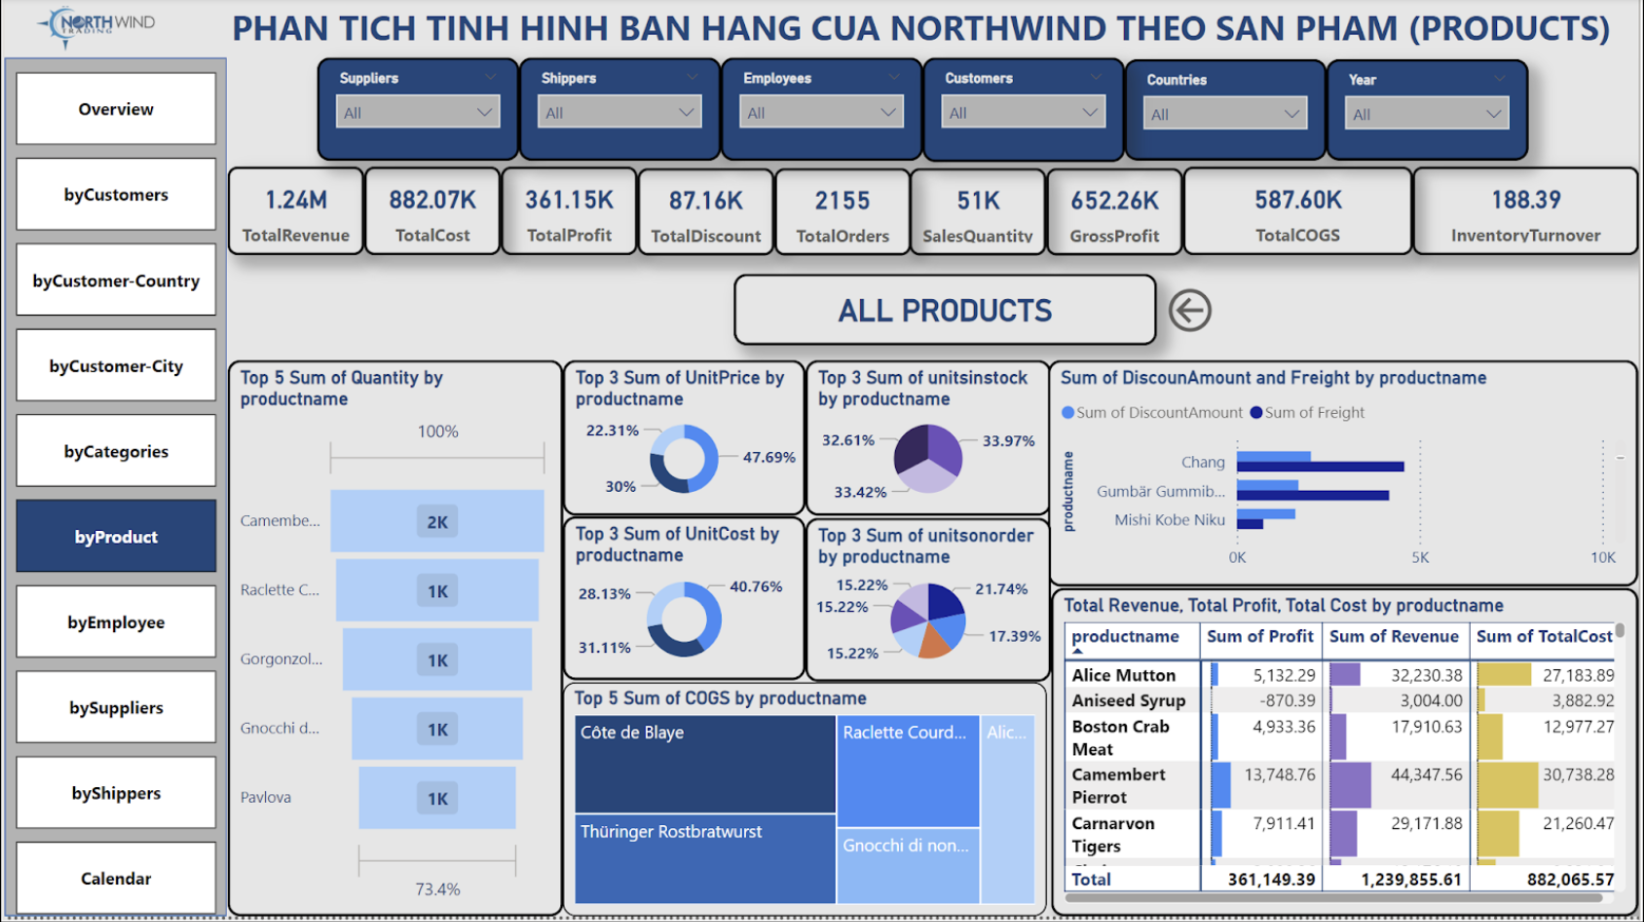

Layout of this report page (visuals, bound fields, positions):
{"tool":"powerbi","page":{"name":"byProduct","canvas":[1280,720],"ordinal":5},"visuals":[{"type":"card","fields":{"Values":["FactOrders.TotalRevenue"]},"box":[174.2,132.1,107,69.5],"z":0},{"type":"card","fields":{"Values":["FactOrders.TotalProfit"]},"box":[388.3,132.1,107,69.5],"z":1000},{"type":"card","fields":{"Values":["Sum(FactOrders.TotalCost)"]},"box":[281.3,132.1,107,69.5],"z":2000},{"type":"card","fields":{"Values":["FactOrders.TotalDiscount"]},"box":[495.4,133.2,107,68.3],"z":3000},{"type":"card","fields":{"Values":["FactOrders.GrossProfit"]},"box":[816.5,133.2,107,68.3],"z":4000},{"type":"card","fields":{"Values":["Sum(FactOrders.Quantity)"]},"box":[709.5,133.2,107,68.3],"z":5000},{"type":"card","fields":{"Values":["FactOrders.InventoryTurnover"]},"box":[1102.3,132.1,177.7,69.5],"z":6000},{"type":"card","fields":{"Values":["FactOrders.TotalCOGS"]},"box":[923.6,132.1,179.9,69.5],"z":7000},{"type":"textbox","box":[157.2,0,1122.8,47.8],"z":8000},{"type":"card","fields":{"Values":["CountNonNull(FactOrders.OrderID)"]},"box":[602.4,133.2,107,68.3],"z":9000},{"type":"image","box":[0,0,157.2,47.8],"z":10000},{"type":"shape","box":[0,46.7,174.2,673],"z":11000},{"type":"pageNavigator","box":[9.1,59.2,157.2,660.5],"z":12000},{"type":"card","title":"TotalRevenue, TotalProfit, Total Discount by Customer","fields":{"Values":["products.selectedProduct"]},"box":[570.5,216.4,331.4,55.8],"z":13000},{"type":"actionButton","box":[906.5,223.2,100.2,44.4],"z":14000},{"type":"pivotTable","title":"Total Revenue, Total Profit, Total Cost by productname","fields":{"Values":["Sum(FactOrders.Profit)","Sum(FactOrders.Revenue)","Sum(FactOrders.TotalCost)"],"Rows":["products.productname"]},"box":[819.9,462.3,460.1,257.4],"z":15000},{"type":"donutChart","title":"Top 3 Sum of UnitPrice by productname","fields":{"Category":["products.productname"],"Y":["Sum(FactOrders.UnitPrice)"]},"box":[437.3,284.7,190.2,121.9],"z":16000},{"type":"donutChart","title":"Top 3 Sum of UnitCost by productname","fields":{"Y":["Sum(products.unitcost)"],"Category":["products.productname"]},"box":[437.3,406.5,190.2,128.7],"z":17000},{"type":"pieChart","title":"Top 3 Sum of unitsinstock by productname","fields":{"Y":["Sum(products.unitsinstock)"],"Category":["products.productname"]},"box":[627.5,284.7,192.5,121.9],"z":18000},{"type":"clusteredBarChart","title":"Sum of DiscounAmount and Freight by productname","fields":{"Y":["Sum(FactOrders.DiscountAmount)","Sum(FactOrders.Freight)"],"Category":["products.productname"]},"box":[817.7,284.7,462.3,177.7],"z":19000},{"type":"funnel","title":"Top 5 Sum of Quantity by productname","fields":{"Y":["Sum(FactOrders.Quantity)"],"Category":["products.productname"]},"box":[174.2,283.8,263.1,436.2],"z":20000},{"type":"treemap","title":"Top 5 Sum of COGS by productname","fields":{"Values":["Sum(FactOrders.COGS)"],"Group":["products.productname"]},"box":[437.3,536.4,379.2,183.3],"z":21000},{"type":"pieChart","title":"Top 3 Sum of unitsonorder by productname","fields":{"Y":["Sum(products.unitsonorder)"],"Category":["products.productname"]},"box":[627.5,407.7,192.5,128.7],"z":22000},{"type":"slicer","title":"Total Profit by Employees","fields":{"Values":["employees.fullname"]},"box":[244.3,47.3,158.3,80.9],"z":23000},{"type":"slicer","title":"Total Profit by Employees","fields":{"Values":["suppliers.companyname"]},"box":[402.6,47.3,158.3,80.9],"z":24000},{"type":"slicer","title":"Total Profit by Employees","fields":{"Values":["employees.fullname"]},"box":[560.9,47.3,158.3,80.9],"z":25000},{"type":"slicer","title":"Total Profit by Employees","fields":{"Values":["categories.categoryname"]},"box":[877.4,48.4,158.3,79.7],"z":26000},{"type":"slicer","title":"Total Profit by Employees","fields":{"Values":["shippers.companyname"]},"box":[1035.7,48.4,158.3,79.7],"z":27000},{"type":"slicer","title":"Total Profit by Employees","fields":{"Values":["customers.contactname"]},"box":[719.1,47.3,158.3,82],"z":28000}]}

Visuals, with their boxes in screenshot pixels (x1, y1, x2, y2), scaled from the page's 1280x720 canvas onto the 1644x922 screenshot:
card - FactOrders.TotalRevenue: box(224, 169, 361, 258)
card - FactOrders.TotalProfit: box(499, 169, 636, 258)
card - Sum(FactOrders.TotalCost): box(361, 169, 499, 258)
card - FactOrders.TotalDiscount: box(636, 171, 774, 258)
card - FactOrders.GrossProfit: box(1049, 171, 1186, 258)
card - Sum(FactOrders.Quantity): box(911, 171, 1049, 258)
card - FactOrders.InventoryTurnover: box(1416, 169, 1643, 258)
card - FactOrders.TotalCOGS: box(1186, 169, 1417, 258)
textbox: box(202, 0, 1643, 61)
card - CountNonNull(FactOrders.OrderID): box(774, 171, 911, 258)
image: box(0, 0, 202, 61)
shape: box(0, 60, 224, 921)
pageNavigator: box(12, 76, 214, 921)
"TotalRevenue, TotalProfit, Total Discount by Customer" card: box(733, 277, 1158, 349)
actionButton: box(1164, 286, 1293, 343)
"Total Revenue, Total Profit, Total Cost by productname" pivotTable: box(1053, 592, 1643, 921)
"Top 3 Sum of UnitPrice by productname" donutChart: box(562, 365, 806, 521)
"Top 3 Sum of UnitCost by productname" donutChart: box(562, 521, 806, 685)
"Top 3 Sum of unitsinstock by productname" pieChart: box(806, 365, 1053, 521)
"Sum of DiscounAmount and Freight by productname" clusteredBarChart: box(1050, 365, 1643, 592)
"Top 5 Sum of Quantity by productname" funnel: box(224, 363, 562, 921)
"Top 5 Sum of COGS by productname" treemap: box(562, 687, 1049, 921)
"Top 3 Sum of unitsonorder by productname" pieChart: box(806, 522, 1053, 687)
"Total Profit by Employees" slicer: box(314, 61, 517, 164)
"Total Profit by Employees" slicer: box(517, 61, 720, 164)
"Total Profit by Employees" slicer: box(720, 61, 924, 164)
"Total Profit by Employees" slicer: box(1127, 62, 1330, 164)
"Total Profit by Employees" slicer: box(1330, 62, 1534, 164)
"Total Profit by Employees" slicer: box(924, 61, 1127, 166)
